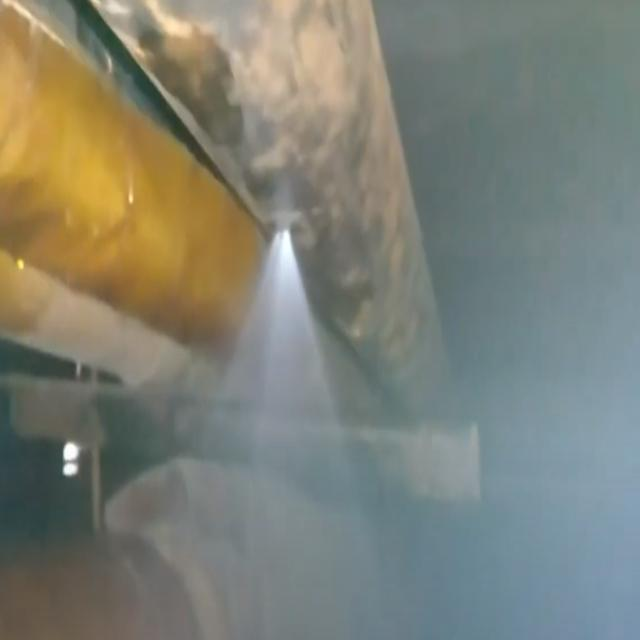leak: (225, 230, 334, 420)
